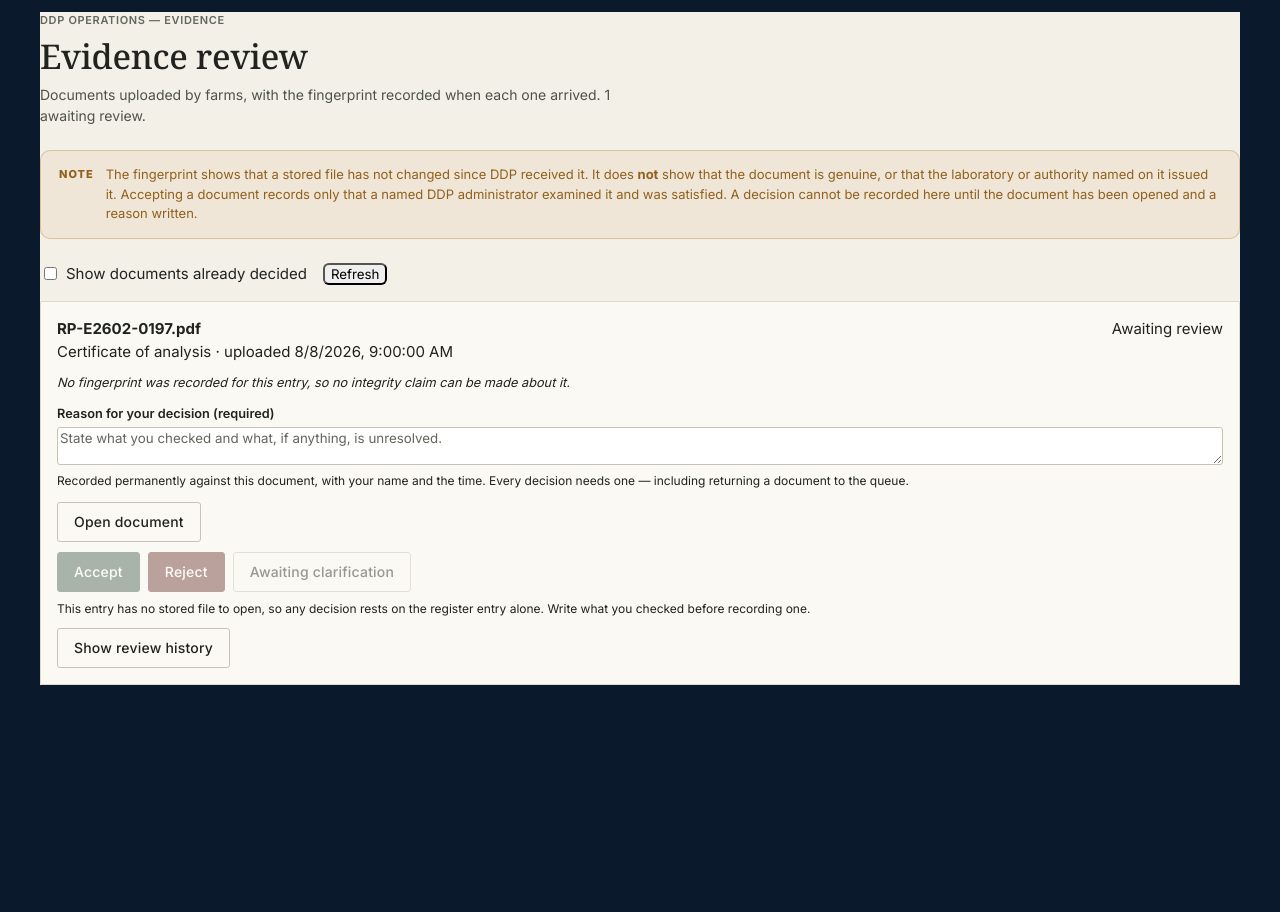
it: an entry with no stored file is decidable on its reason alone › does not impose a read condition it cannot satisfy
The image size is (1280, 912).
Expected: the button "Accept" is disabled, [57,552,140,592]
Type "No file was ever uploaded against this entry." into the text box labelled "Reason for your decision (required)" at (640, 446), box [57,427,1223,465]
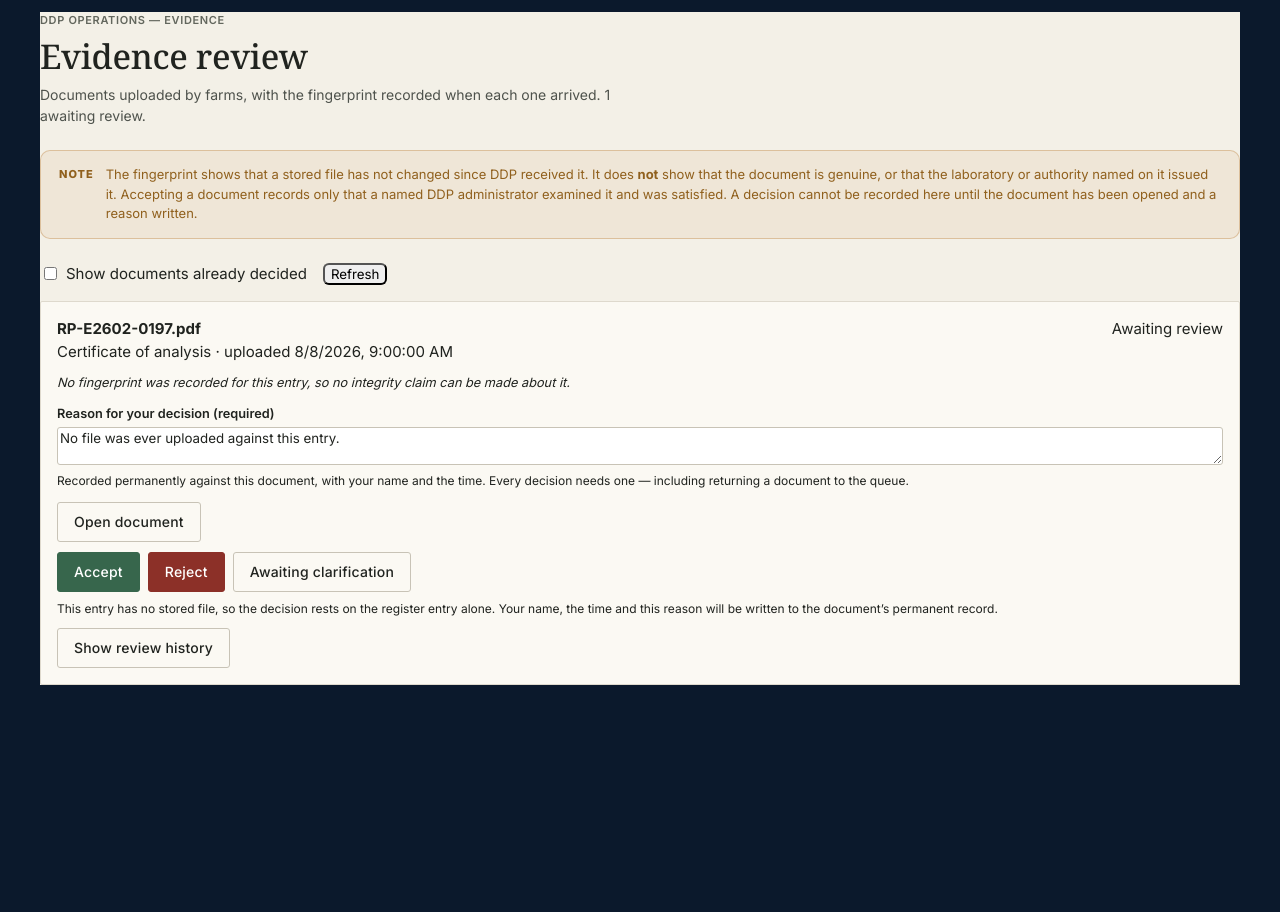
Expected: the text "no stored file" is shown, [57,601,998,616]
Now the button "Accept" is enabled, box [57,552,140,592]
